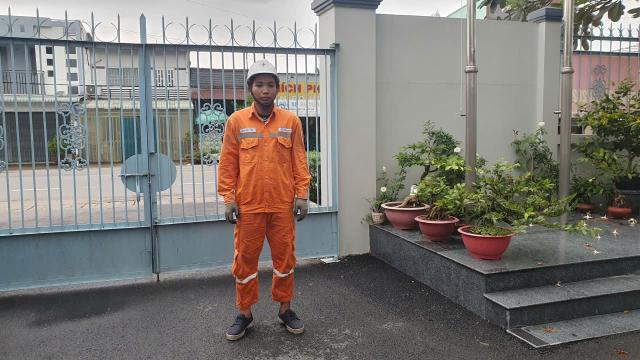gloves: (291, 197, 314, 222), (220, 203, 248, 222)
helmet: (238, 52, 288, 90)
shoes: (216, 301, 260, 344), (272, 302, 306, 334)
